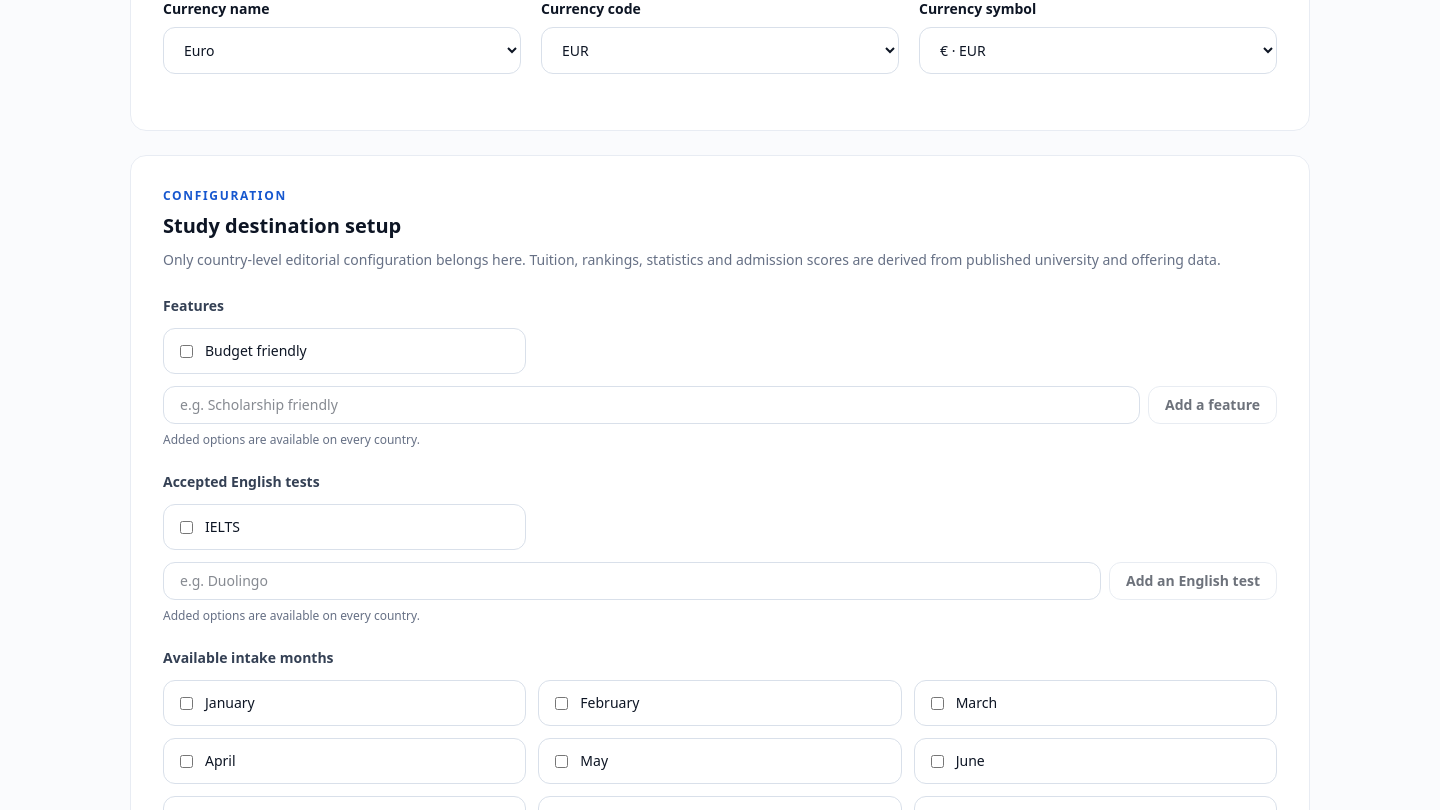
Test: country editor reusable taxonomies › says so rather than silently doing nothing when the option cannot be added
(page scrolled)
Type "Scholarship friendly" into the field named "Add a feature" at point(652, 405), box [163,386,1140,424]
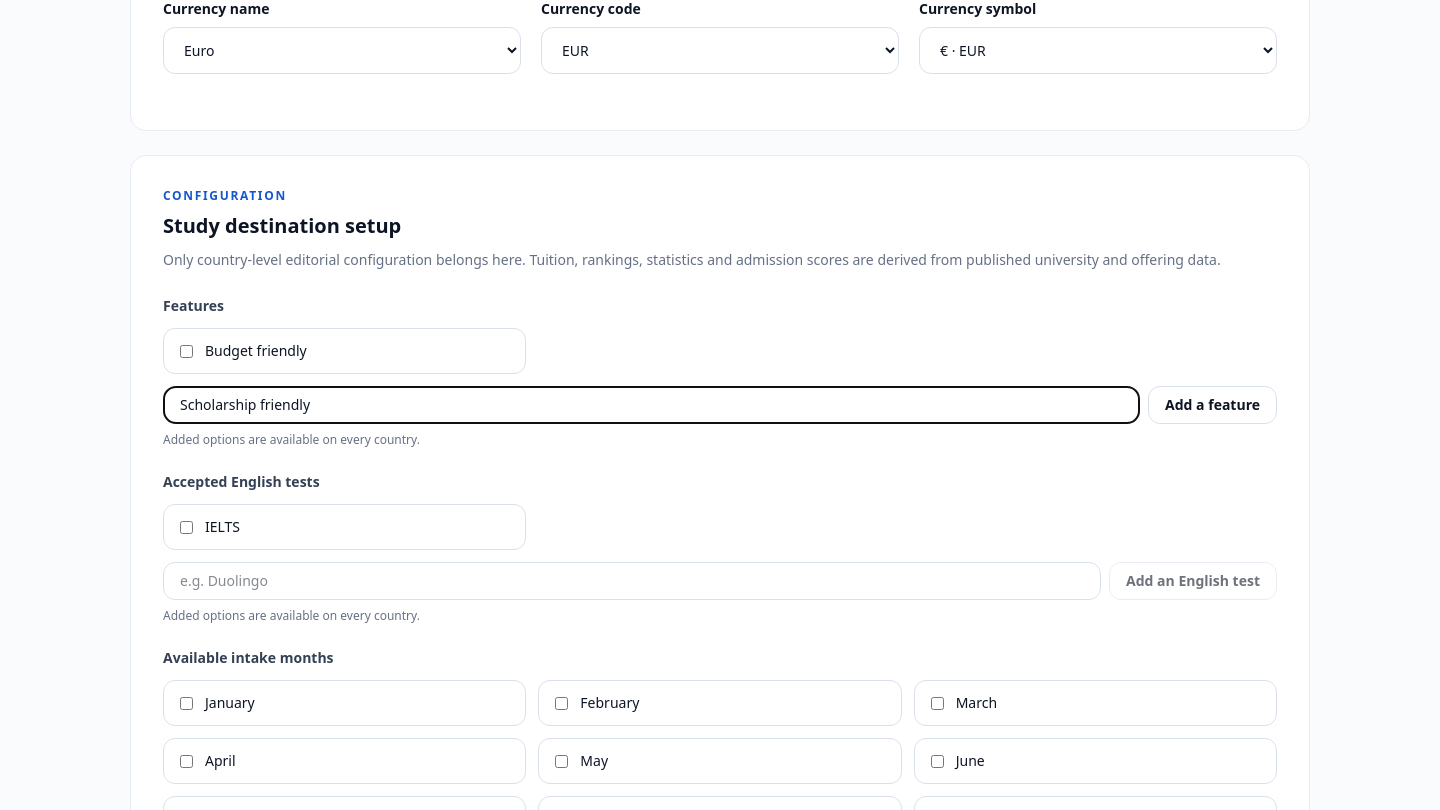
Click the button "Add a feature" at point(1213, 405), box [1148,386,1277,424]
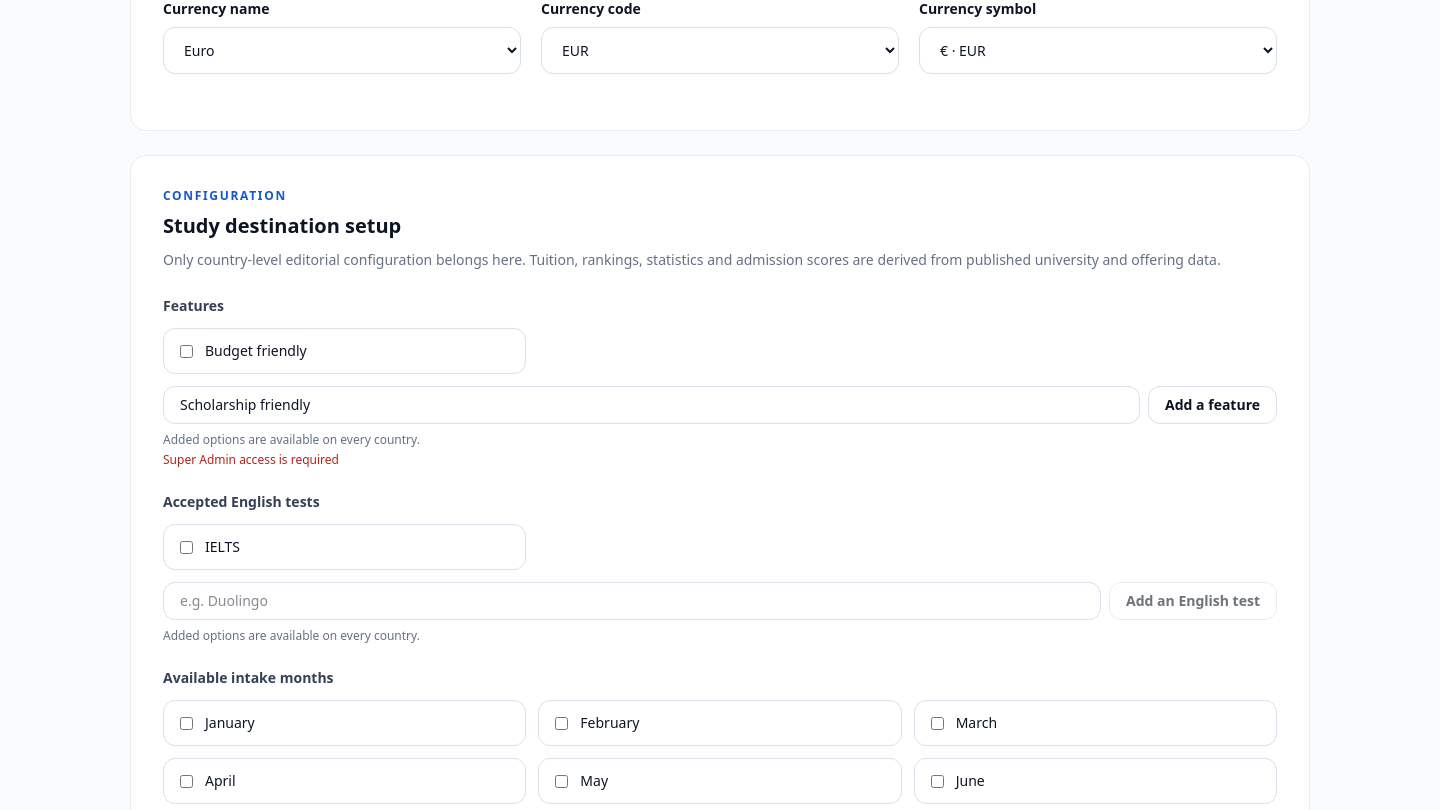
Now the message reads "Super Admin access is required", box [163,451,339,468]
